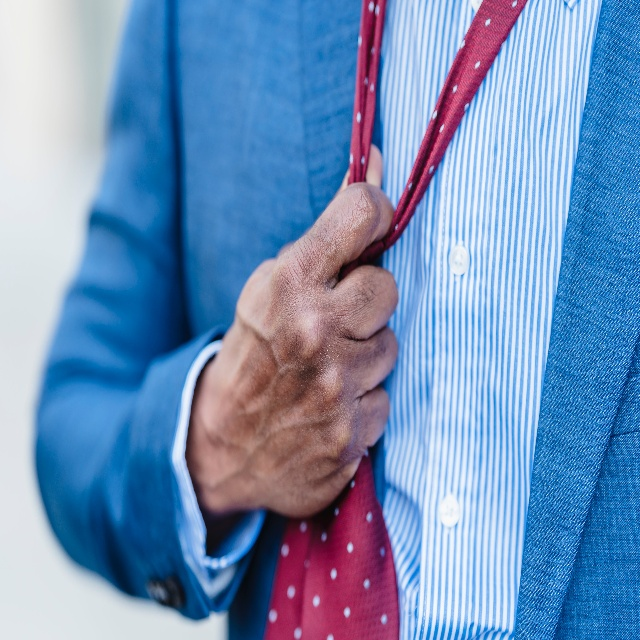Sin_guantes: (217, 182, 400, 516)
